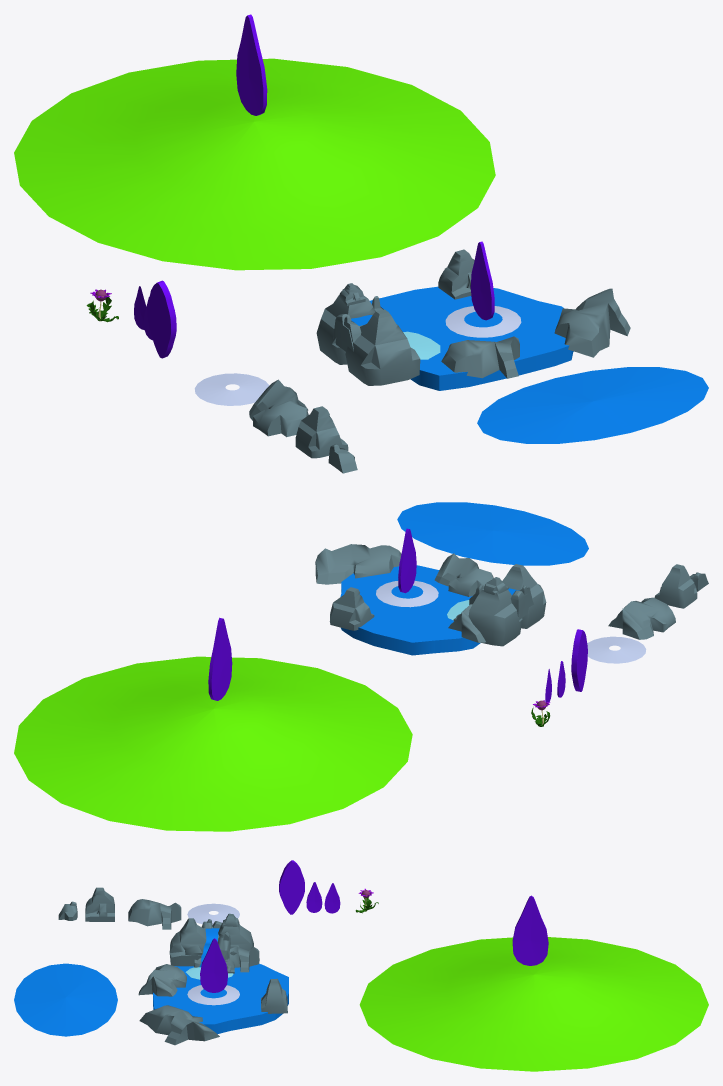
File: ShaderTest.fbx
The picture shows the model from 3 angles, top to bottom: view 1: azimuth 30°, elevation 25°; view 2: azimuth 150°, elevation 25°; view 3: azimuth 270°, elevation 25°; orthographic projection. The views are drawn at different scales.
Parts seen in each view (by area): view 1: pCylinder7, pCylinder5, pCube21, pCube18, pCube16, pCube14, pCube6, pCylinder8, pCylinder9, pCube7, pPlane1, pCube11 (+3 smaller); view 2: pCylinder7, pCylinder5, pCube21, pCube16, pCube11, pCube6, pCube14, pCylinder8, pCube15, pCylinder9, pCube7, pCube18 (+4 smaller); view 3: pCylinder7, pCylinder5, pCube21, pCube16, pCylinder8, pCube18, pCube6, pCube14, pCylinder6, pPlane1, pCube7, pCube15 (+6 smaller).
Boxes of the visible parts, <box> form: pCylinder7: <box>14,58,495,270</box>; pCylinder5: <box>477,367,708,443</box>; pCube21: <box>370,286,573,390</box>; pCube18: <box>345,309,420,385</box>; pCube16: <box>554,288,630,357</box>; pCube14: <box>441,336,519,378</box>; pCube6: <box>249,379,308,437</box>; pCylinder8: <box>236,14,267,115</box>; pCylinder9: <box>194,373,269,405</box>; pCube7: <box>295,406,348,458</box>; pPlane1: <box>147,280,176,358</box>; pCube11: <box>316,295,375,364</box>; pCylinder7: <box>14,656,412,831</box>; pCylinder5: <box>397,502,588,565</box>; pCube21: <box>340,565,480,655</box>; pCube16: <box>315,544,401,584</box>; pCube11: <box>468,588,522,646</box>; pCube6: <box>608,597,675,639</box>; pCube14: <box>434,553,493,596</box>; pCylinder8: <box>208,617,232,700</box>; pCube15: <box>329,587,374,630</box>; pCylinder9: <box>587,636,646,663</box>; pCube7: <box>654,564,697,608</box>; pCube18: <box>502,564,546,628</box>; pCylinder7: <box>359,937,708,1071</box>; pCylinder5: <box>14,963,117,1036</box>; pCube21: <box>153,964,288,1034</box>; pCube16: <box>139,1005,219,1045</box>; pCylinder8: <box>512,895,548,965</box>; pCube18: <box>169,918,206,966</box>; pCube6: <box>128,899,181,929</box>; pCube14: <box>138,964,186,996</box>; pCylinder6: <box>200,938,227,992</box>; pPlane1: <box>279,860,304,914</box>; pCube7: <box>85,887,114,921</box>; pCube15: <box>261,978,287,1013</box>.
Bounding box in the file's own units: 33.48 × 10.37 × 59.04.
